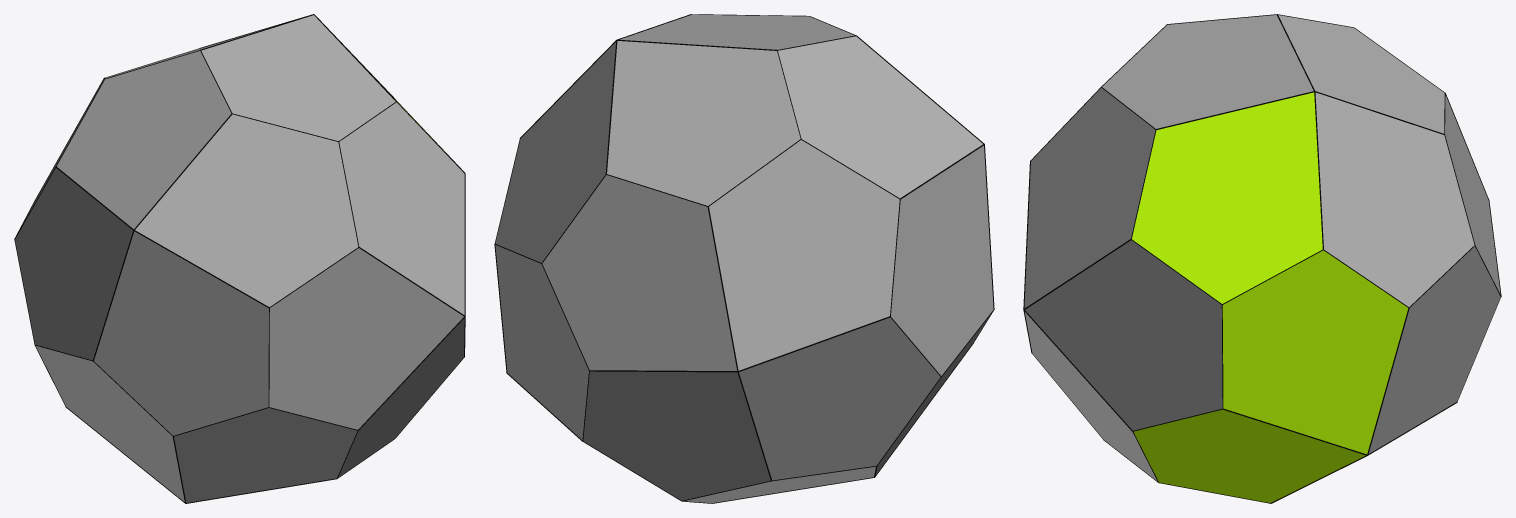
File: PentagonalIcositetrahedron3.glb
The picture shows the model from 3 angles, left to right: view 1: azimuth 30°, elevation 25°; view 2: azimuth 150°, elevation 25°; view 3: azimuth 270°, elevation 25°; orthographic projection. The views are drawn at different scales.
Bounding box in the file's own units: 2.48 × 2.51 × 2.46.
